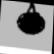not correct: (15, 1, 47, 37)
